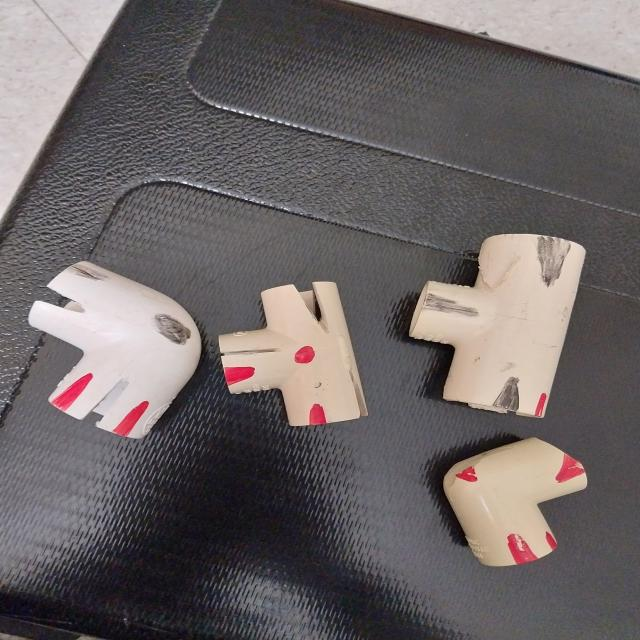Defective: (96, 387, 156, 433), (349, 360, 371, 421), (57, 380, 95, 413), (300, 286, 329, 328), (496, 373, 522, 418), (157, 318, 194, 348), (280, 348, 331, 369), (508, 534, 534, 563), (560, 456, 586, 482), (228, 365, 255, 386), (309, 405, 328, 425), (536, 393, 550, 419), (296, 346, 315, 364), (454, 469, 477, 482), (546, 530, 560, 551)
L Joint: (28, 261, 206, 440), (442, 440, 587, 570)
T Joint: (409, 231, 592, 416), (214, 279, 374, 430)
